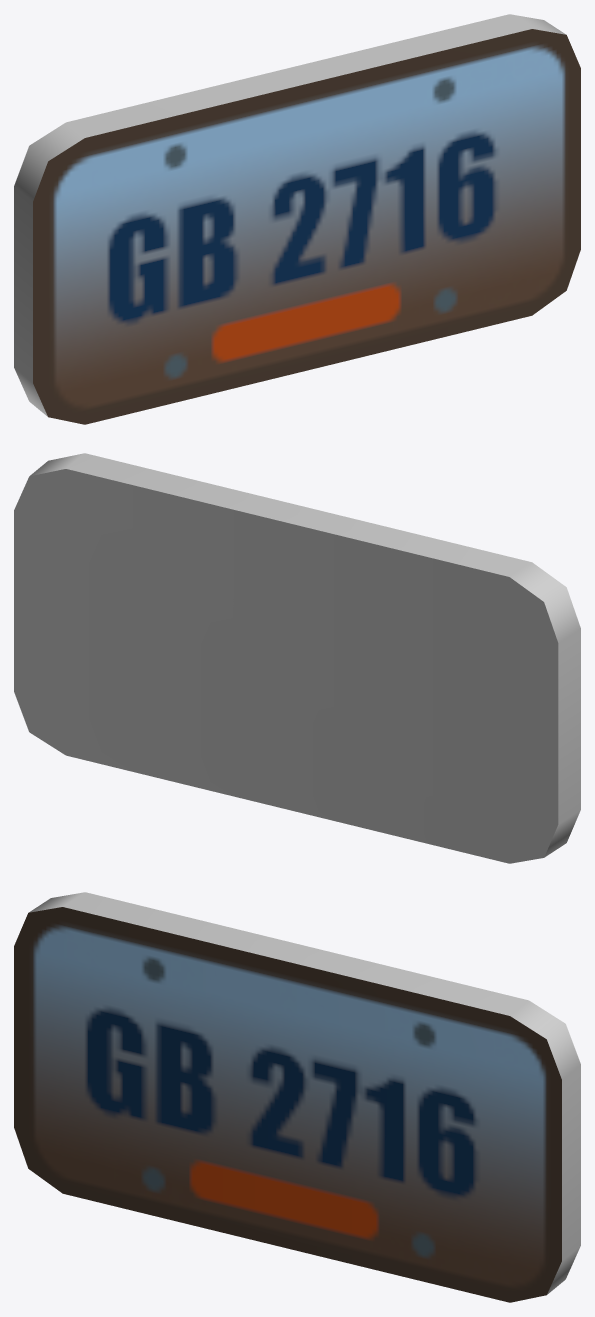
File: Car_Number_21.fbx
3 views of the same model, one above another, from view 1: azimuth 30°, elevation 25°; view 2: azimuth 150°, elevation 25°; view 3: azimuth 330°, elevation 25° (orthographic).
Parts seen in each view (by area): view 1: Car_Number_21; view 2: Car_Number_21; view 3: Car_Number_21.
Boxes of the visible parts, x1,y1,x2,y2 form: Car_Number_21: (14, 14, 580, 424); Car_Number_21: (14, 453, 580, 863); Car_Number_21: (14, 892, 580, 1302).
Size of the model in its own units: 49.09 by 3.48 by 24.55.
